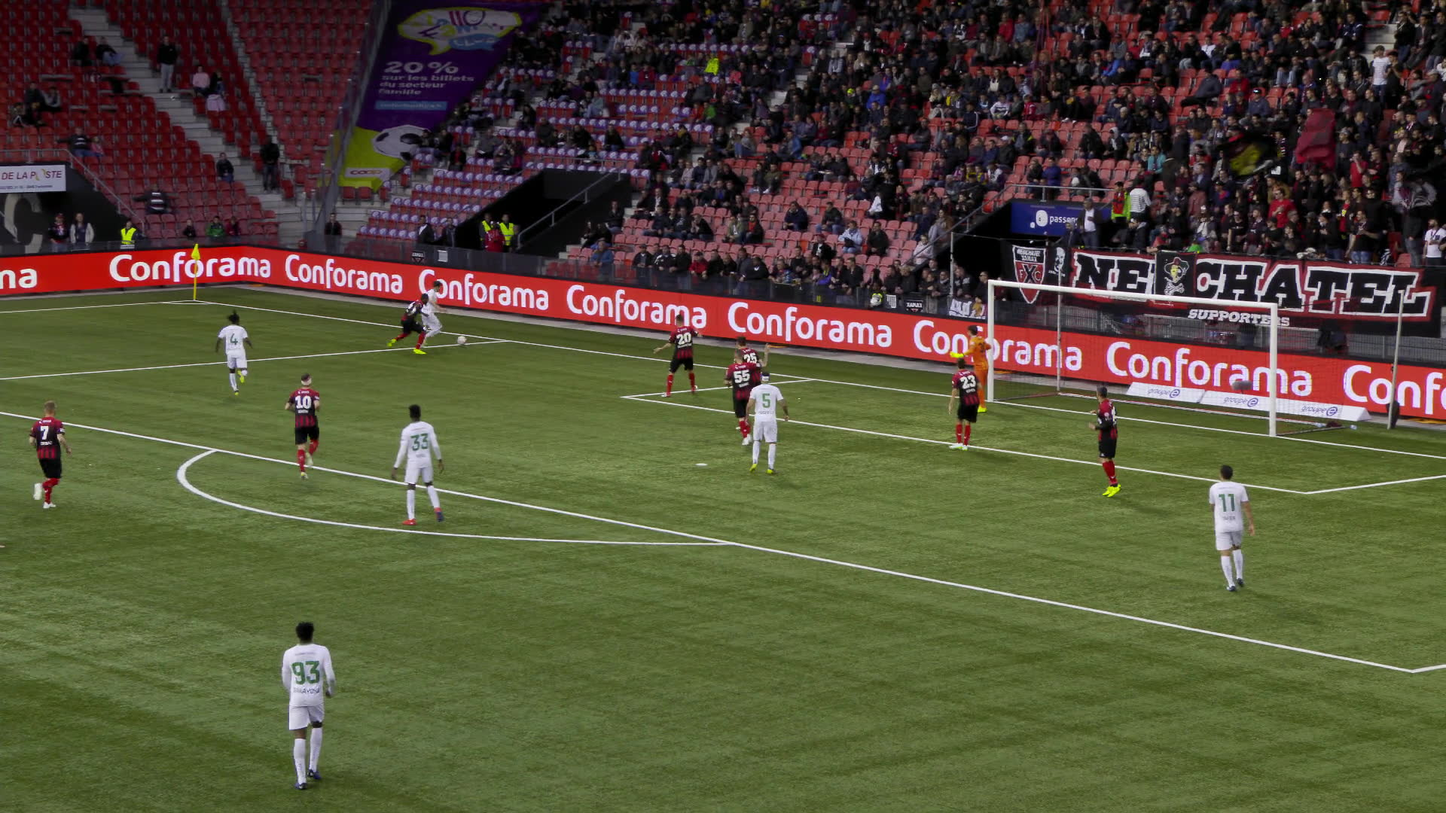ball: (457, 335, 467, 344)
player: (282, 622, 335, 789), (395, 404, 449, 524), (1210, 464, 1255, 591), (742, 379, 788, 476), (29, 400, 69, 508), (653, 313, 699, 397), (285, 374, 322, 475), (950, 324, 990, 411), (1089, 385, 1120, 495), (726, 349, 759, 444), (947, 357, 979, 449), (217, 309, 251, 394), (389, 293, 430, 352), (416, 281, 441, 347), (734, 333, 771, 367)
